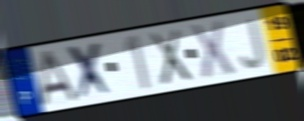1: (123, 32, 153, 93)
A: (39, 48, 80, 109)
J: (238, 15, 267, 71)
X: (65, 39, 115, 103), (188, 19, 237, 83), (147, 26, 194, 89)
